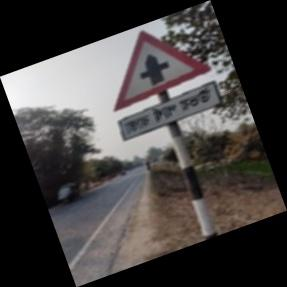Crossroad: (110, 31, 222, 138)
